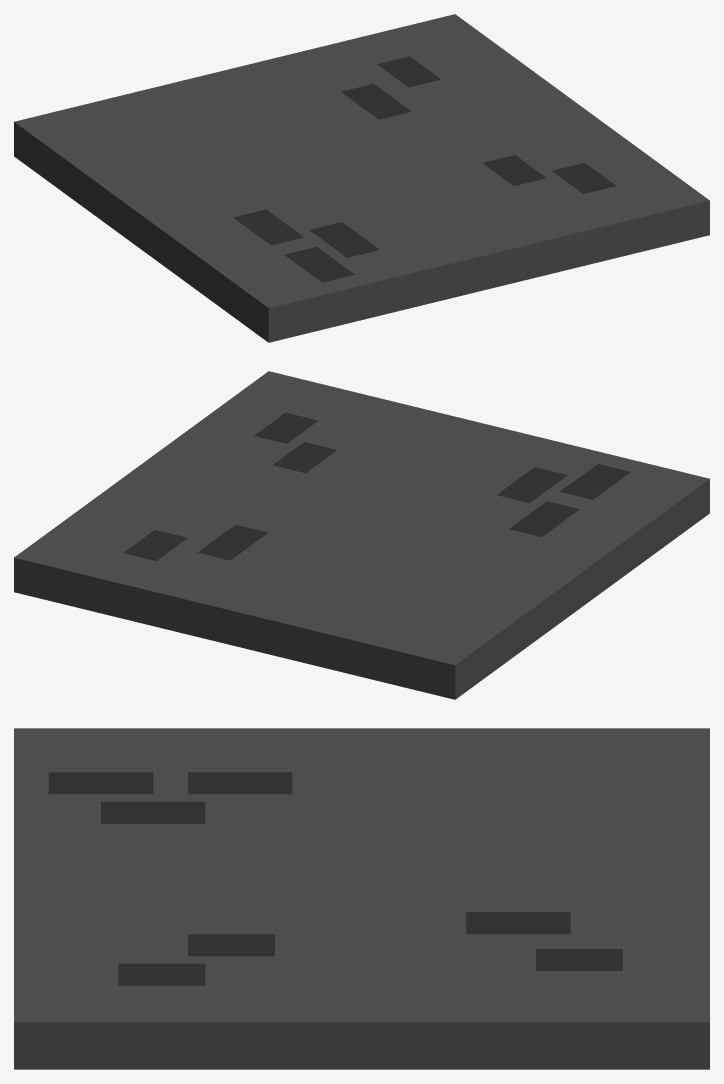
The model's file is suelo 1.obj.
3 renders of one model, top to bottom at view 1: azimuth 30°, elevation 25°; view 2: azimuth 150°, elevation 25°; view 3: azimuth 270°, elevation 25°, orthographic. The views are drawn at different scales.
Size of the model in its own units: 4 by 0.3 by 4.
1 material, 1 textured.
